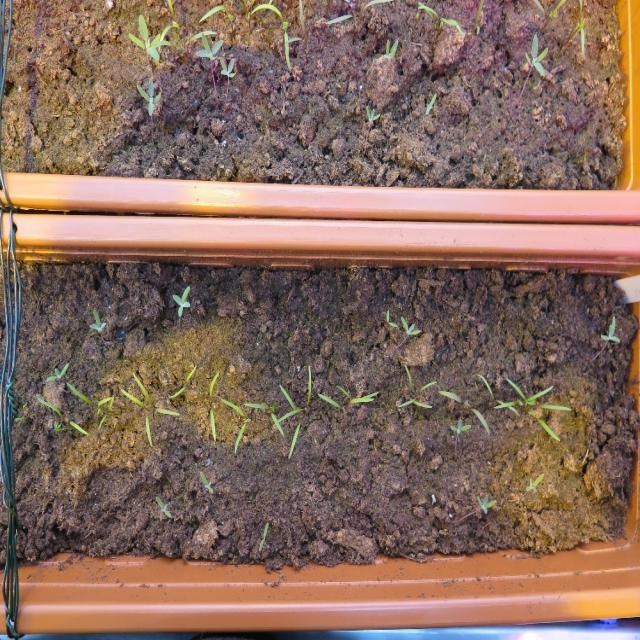weed: (523, 31, 548, 76), (136, 76, 160, 116), (170, 284, 191, 318), (599, 311, 620, 344), (88, 305, 107, 335), (44, 360, 69, 382), (399, 314, 421, 335), (476, 492, 496, 514), (524, 470, 544, 492), (154, 494, 171, 519), (448, 414, 471, 432), (219, 54, 235, 78), (382, 36, 398, 60), (257, 520, 269, 551), (199, 468, 213, 492), (424, 92, 437, 115), (385, 307, 398, 329), (365, 102, 380, 121)
